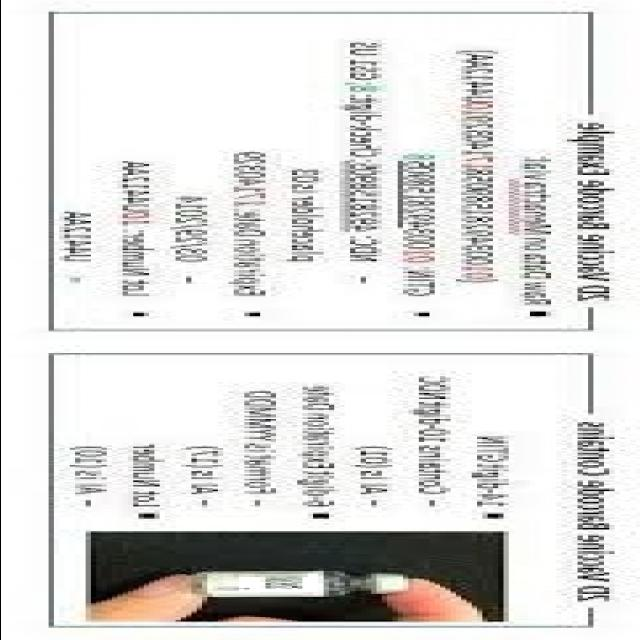DataMatrix: (238, 574, 317, 592)
